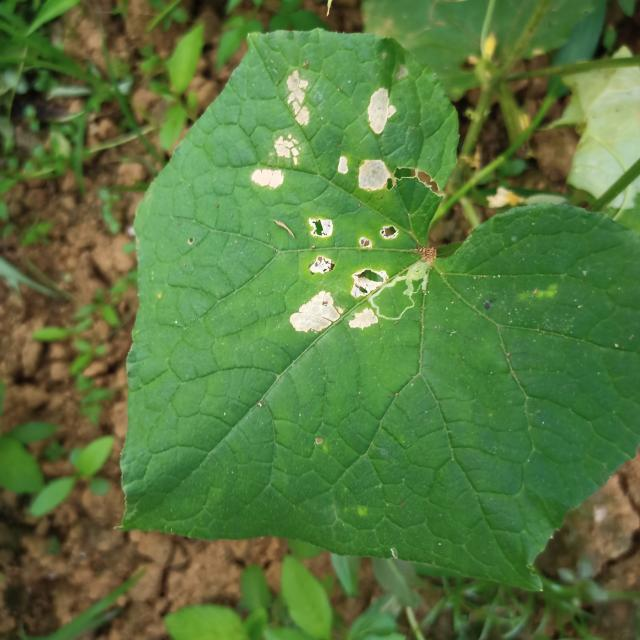disease_cucumber: (251, 70, 396, 330)
